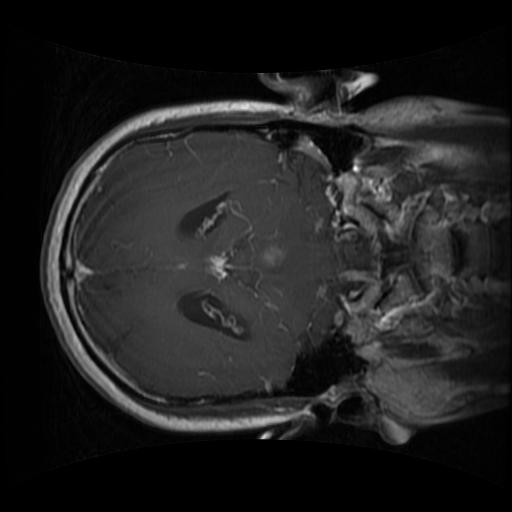glioma: (242, 230, 288, 278)
